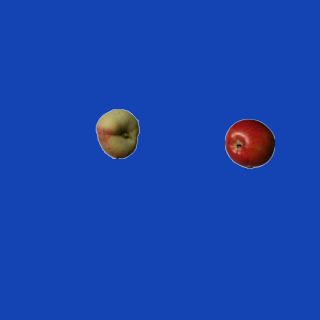Apple Braeburn: (224, 118, 274, 168)
Peach Flat: (92, 108, 142, 158)
